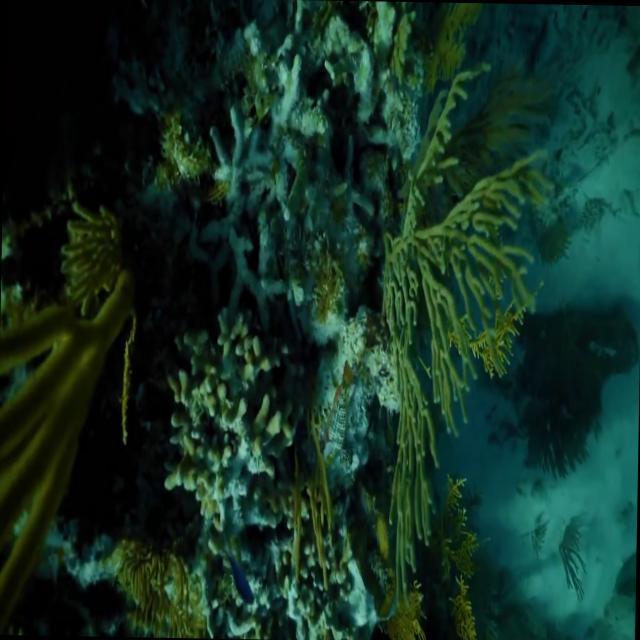fish: (213, 532, 264, 610)
